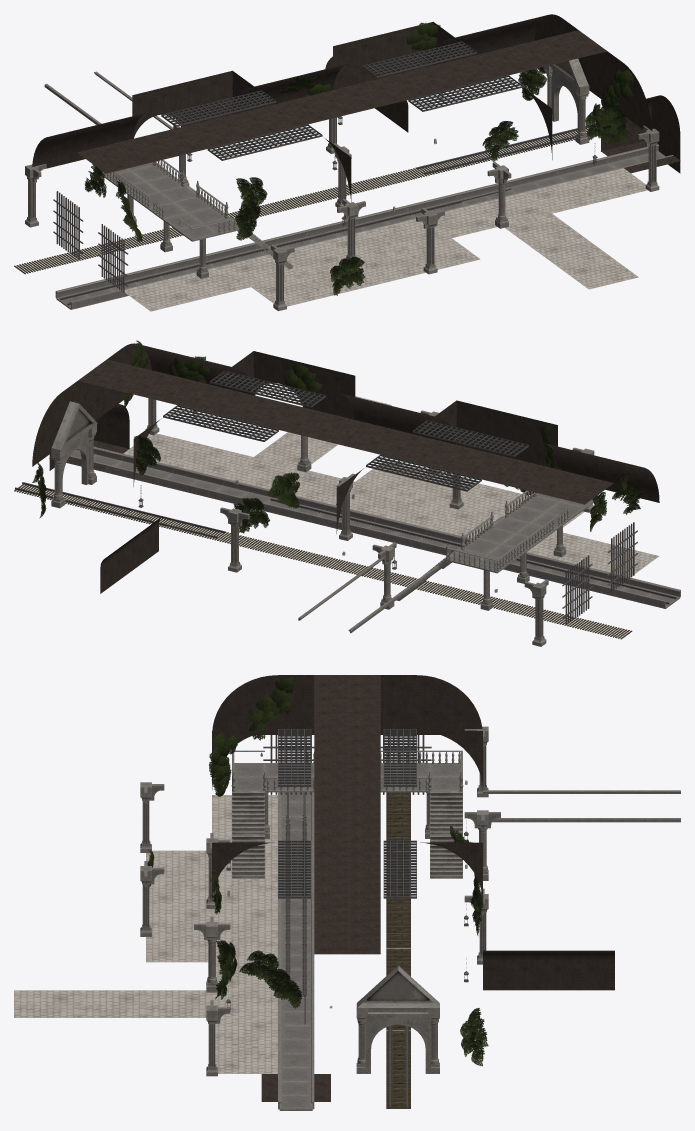
File: metro_station_1.glb
3 views of the same model, one above another, from view 1: azimuth 30°, elevation 25°; view 2: azimuth 150°, elevation 25°; view 3: azimuth 270°, elevation 25° (orthographic). The views are drawn at different scales.
Parts seen in each view (by area): view 1: Main_Roof, Platform3, Railway_Track2_Base, Balcony, Railway_Tracks, Corridors, Tunnel_Entrance3, Tunnel_Arch4, Ivy_Large_Group9, Metal_Gates, Ivy_Large_Group5, Metal_Gate2 (+17 smaller); view 2: Main_Roof, Platform3, Railway_Track2_Base, Balcony, Railway_Tracks, Tunnel_Arch4, Small_Corridor2, Tunnel_Entrance3, Corridors, Metal_Gates, Metal_Gate2, Railway_Track2 (+11 smaller); view 3: Main_Roof, Platform3, Balcony, Railway_Track2_Base, Railway_Tracks, Corridors, Small_Corridor2, Tunnel_Arch4, Large_Corridor1, Ivy_Large_Group2, Railway_Track2, Ivy_Group27 (+9 smaller).
Part boxes in pixels (box(x1,y1,x2,y2)): Main_Roof: box(32, 14, 652, 201); Platform3: box(122, 168, 647, 311); Railway_Track2_Base: box(55, 144, 673, 309); Balcony: box(91, 160, 293, 278); Railway_Tracks: box(14, 125, 598, 274); Corridors: box(505, 214, 638, 289); Tunnel_Entrance3: box(601, 95, 680, 173); Tunnel_Arch4: box(543, 58, 589, 144); Ivy_Large_Group9: box(585, 103, 628, 144); Metal_Gates: box(53, 191, 83, 259); Ivy_Large_Group5: box(235, 177, 267, 240); Metal_Gate2: box(98, 224, 128, 292); Main_Roof: box(32, 343, 659, 533); Platform3: box(123, 433, 658, 576); Railway_Track2_Base: box(69, 446, 680, 608); Balcony: box(396, 490, 593, 610); Railway_Tracks: box(14, 482, 632, 639); Tunnel_Arch4: box(51, 401, 97, 508); Small_Corridor2: box(100, 517, 161, 593); Tunnel_Entrance3: box(49, 404, 129, 470); Corridors: box(254, 396, 391, 467); Metal_Gates: box(562, 555, 592, 624); Metal_Gate2: box(607, 522, 637, 591); Railway_Track2: box(270, 498, 676, 604); Main_Roof: box(212, 675, 482, 954); Platform3: box(146, 795, 277, 1073); Balcony: box(231, 750, 463, 878); Railway_Track2_Base: box(278, 792, 314, 1110); Railway_Tracks: box(386, 792, 410, 1108); Corridors: box(14, 990, 211, 1017); Small_Corridor2: box(483, 950, 614, 990); Tunnel_Arch4: box(356, 965, 439, 1073); Large_Corridor1: box(483, 790, 680, 822); Ivy_Large_Group2: box(239, 950, 301, 1008); Railway_Track2: box(285, 792, 306, 1024); Ivy_Group27: box(248, 677, 294, 740).
Bounding box in the file's own units: 48 × 9.3 × 40.4.
Materials: 7 (7 with a texture image).
